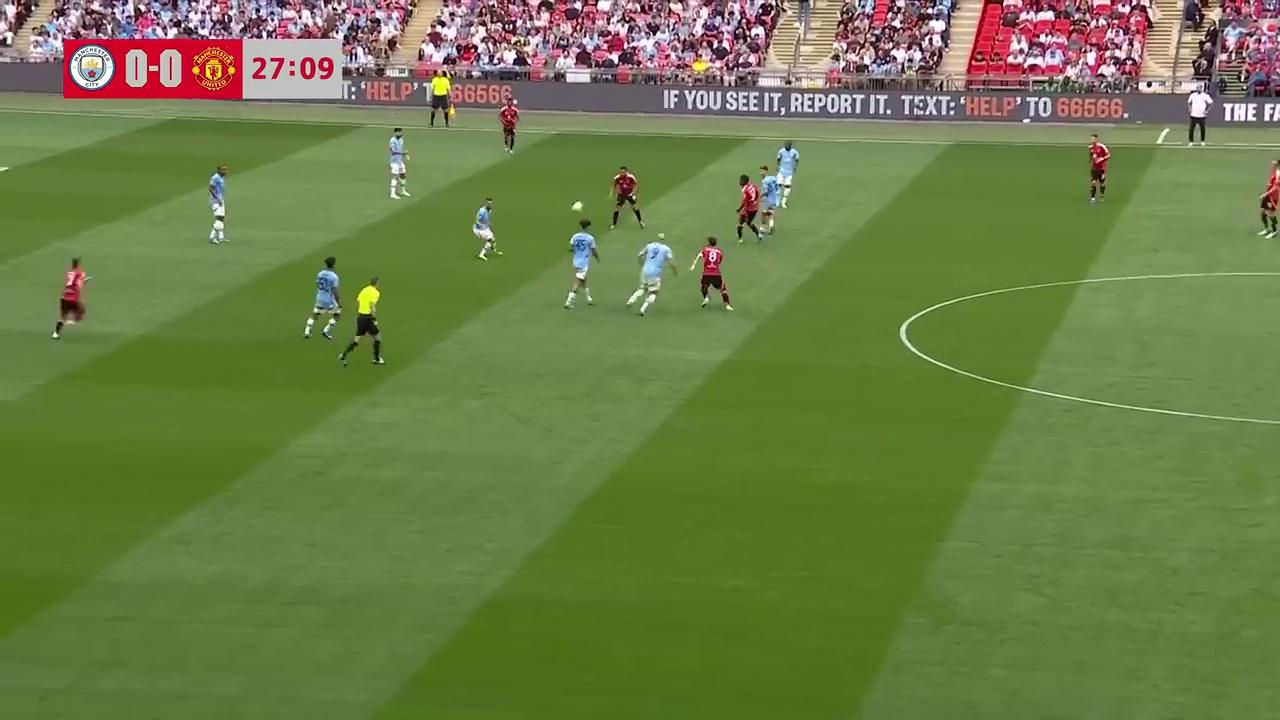ball: (571, 197, 584, 214)
player: (626, 234, 678, 316), (688, 235, 733, 311), (302, 256, 342, 341), (564, 219, 600, 311), (52, 257, 90, 339), (608, 165, 644, 228), (735, 173, 766, 244), (759, 158, 793, 218), (473, 197, 501, 260), (207, 164, 229, 244), (1258, 159, 1280, 238), (387, 127, 411, 199), (774, 141, 800, 205), (1088, 134, 1110, 202), (498, 100, 519, 153), (756, 167, 774, 228)
referee: (338, 276, 385, 367), (428, 76, 450, 129)
